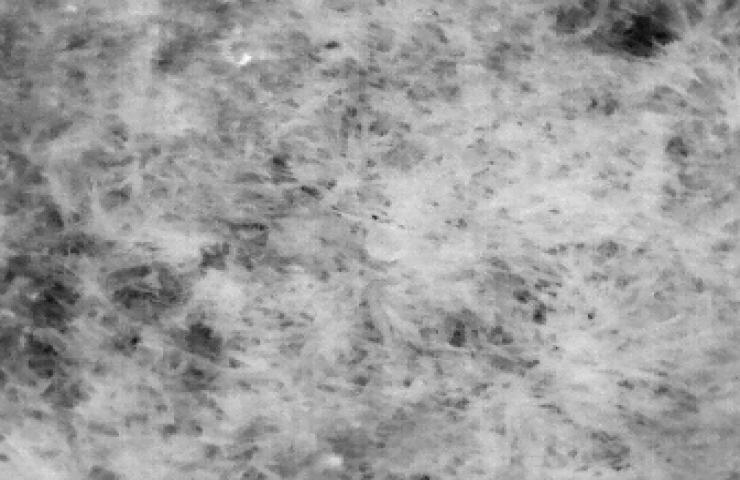landmines: (365, 220, 412, 265)
